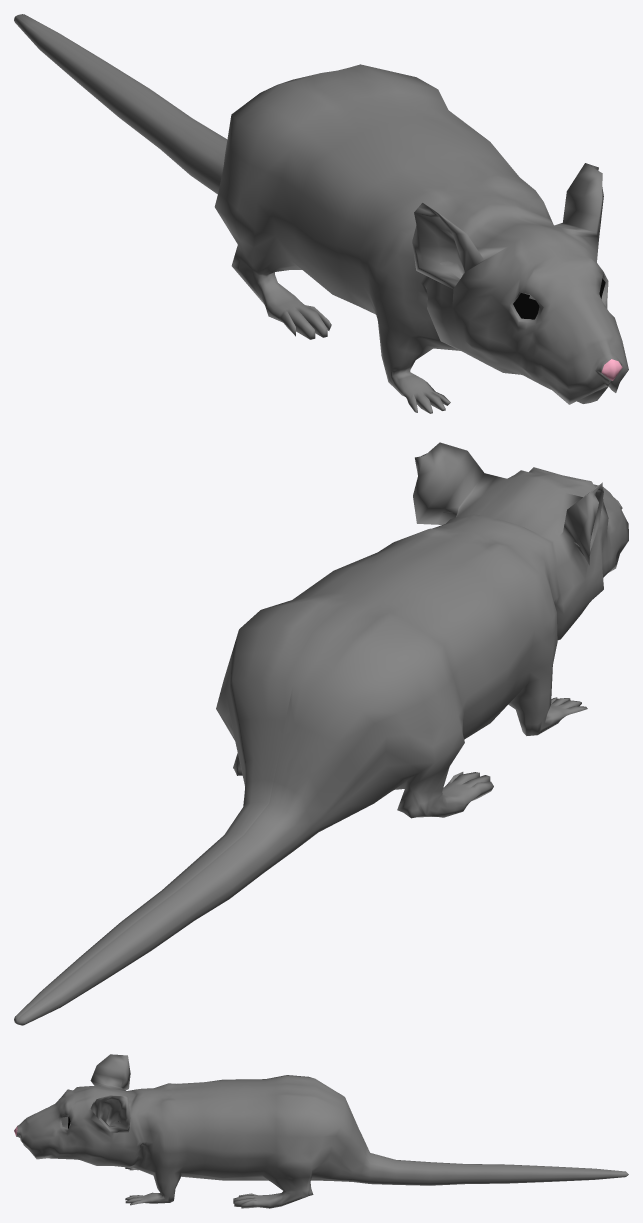
File: rat.obj
The picture shows the model from 3 angles, top to bottom: view 1: azimuth 30°, elevation 25°; view 2: azimuth 150°, elevation 25°; view 3: azimuth 270°, elevation 25°; orthographic projection. The views are drawn at different scales.
Visible parts, largest first — view 1: rat_obj; view 2: rat_obj; view 3: rat_obj.
Boxes of the visible parts, x1=… form: rat_obj: x1=14, y1=14, x2=628, y2=413; rat_obj: x1=14, y1=442, x2=628, y2=1025; rat_obj: x1=14, y1=1054, x2=628, y2=1208.
Bounding box in the file's own units: 0.0624 × 0.0553 × 0.2816.
Materials: 1 (1 with a texture image).
